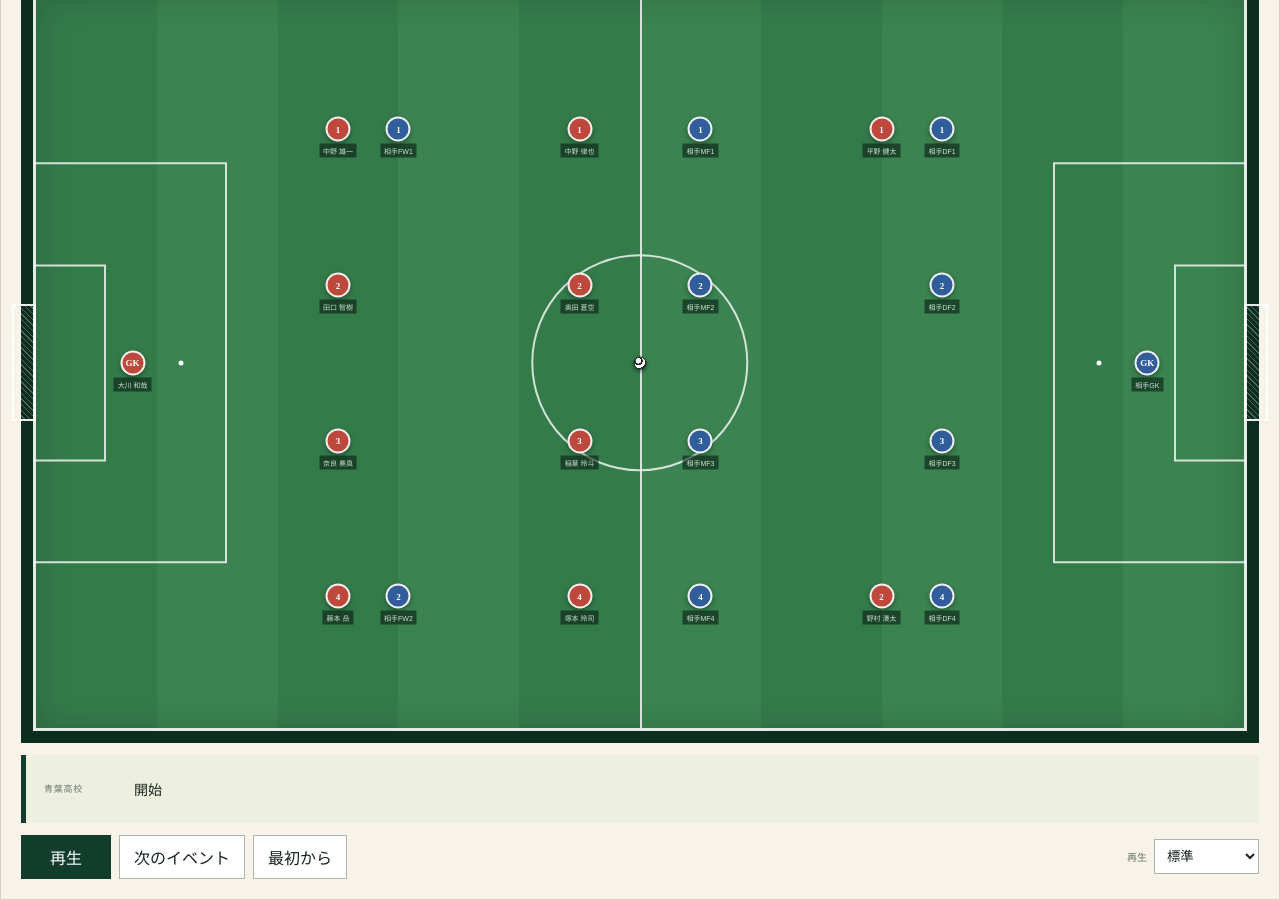
MatchReplay2D playback › stops automatically at the final event
(page scrolled)
Click the button "再生" at coordinates (66, 857), box x1=21 y1=835 x2=111 y2=879
Wait 300 ms
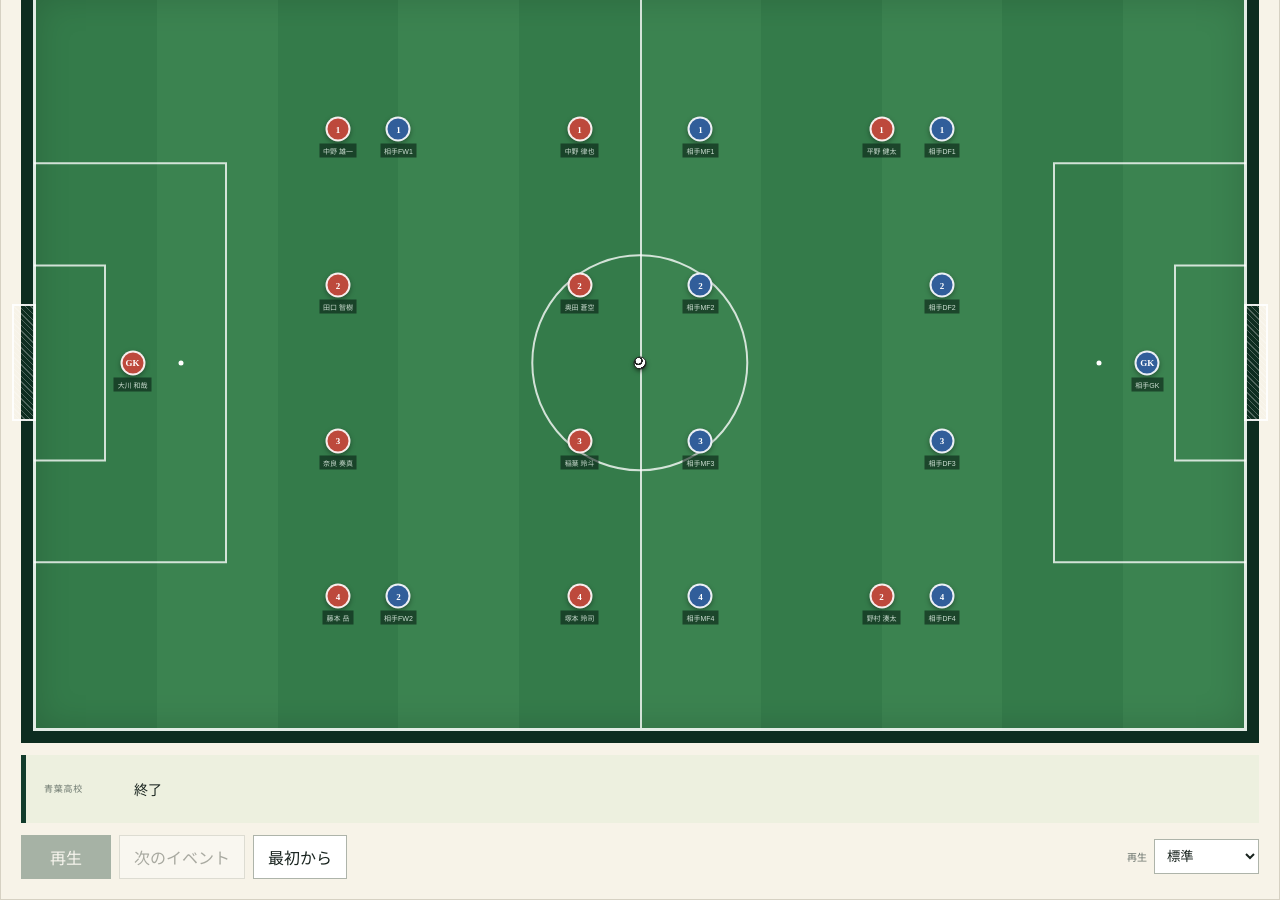
Expected: the button "再生" is disabled, x1=21 y1=835 x2=111 y2=879
